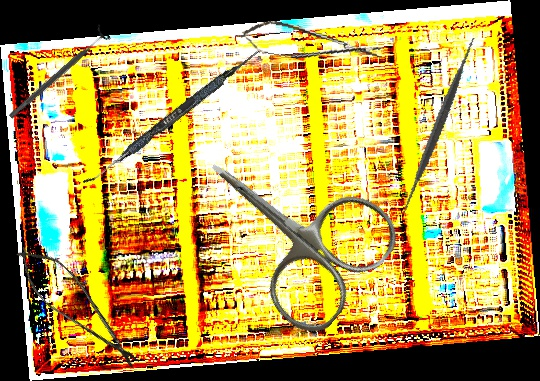Fixation Ring: (3, 23, 113, 125)
Iris Scissors: (167, 108, 409, 344)
Micro Scissor: (5, 235, 152, 379), (239, 15, 385, 74)
Spatula Surgical: (347, 34, 530, 217), (82, 42, 263, 193)
